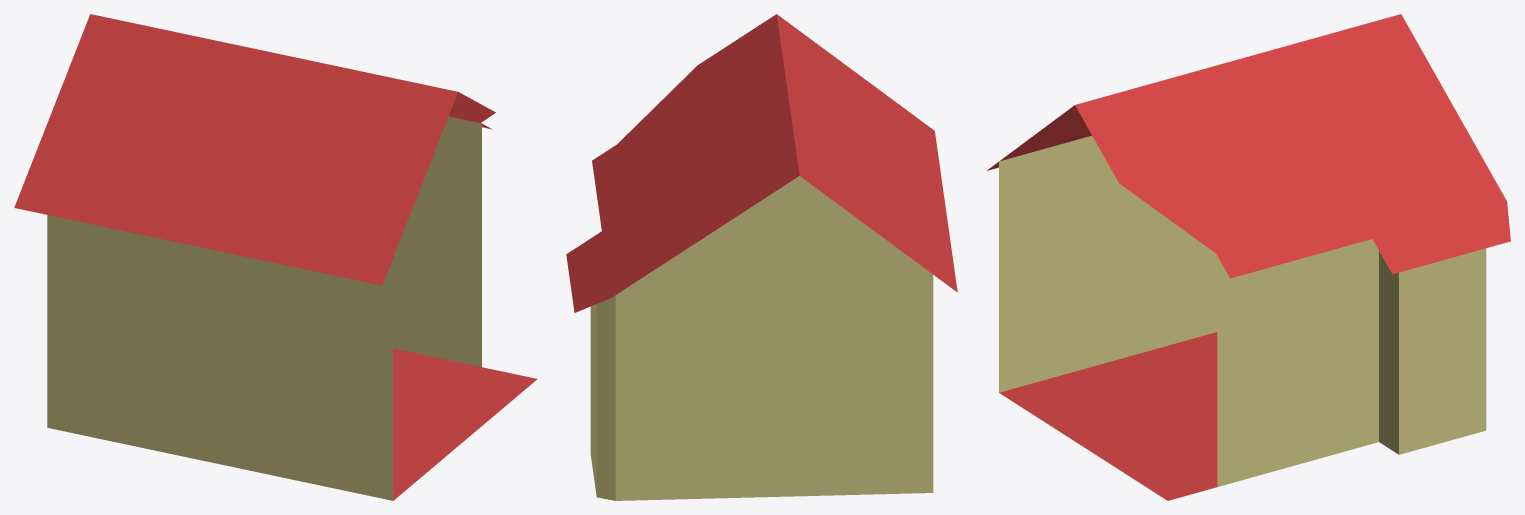
The picture shows the model from 3 angles, left to right: view 1: azimuth 30°, elevation 25°; view 2: azimuth 150°, elevation 25°; view 3: azimuth 270°, elevation 25°; orthographic projection. The views are drawn at different scales.
Bounding box in the file's own units: 20.91 × 22.36 × 15.82.
